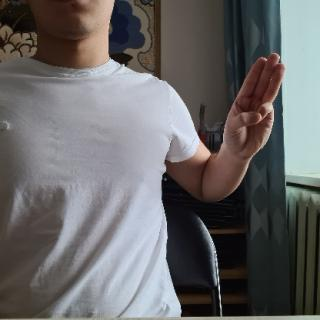THA: (220, 51, 288, 164)
